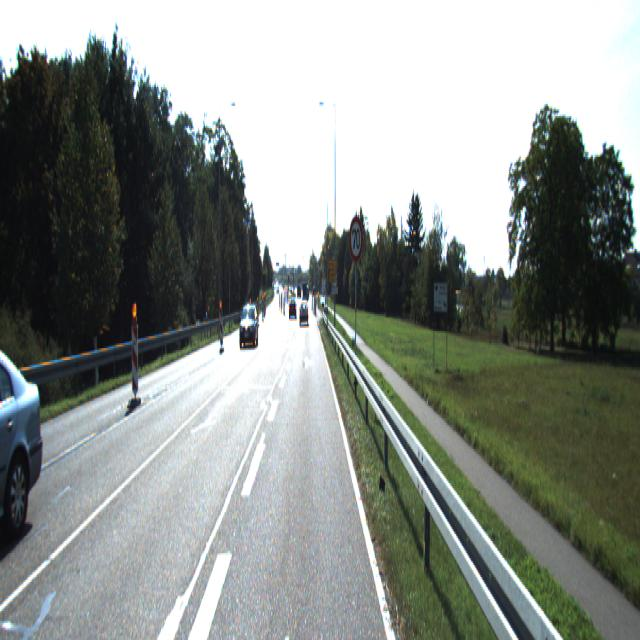Car: (0, 315, 61, 555), (238, 304, 258, 350), (300, 301, 308, 325)
